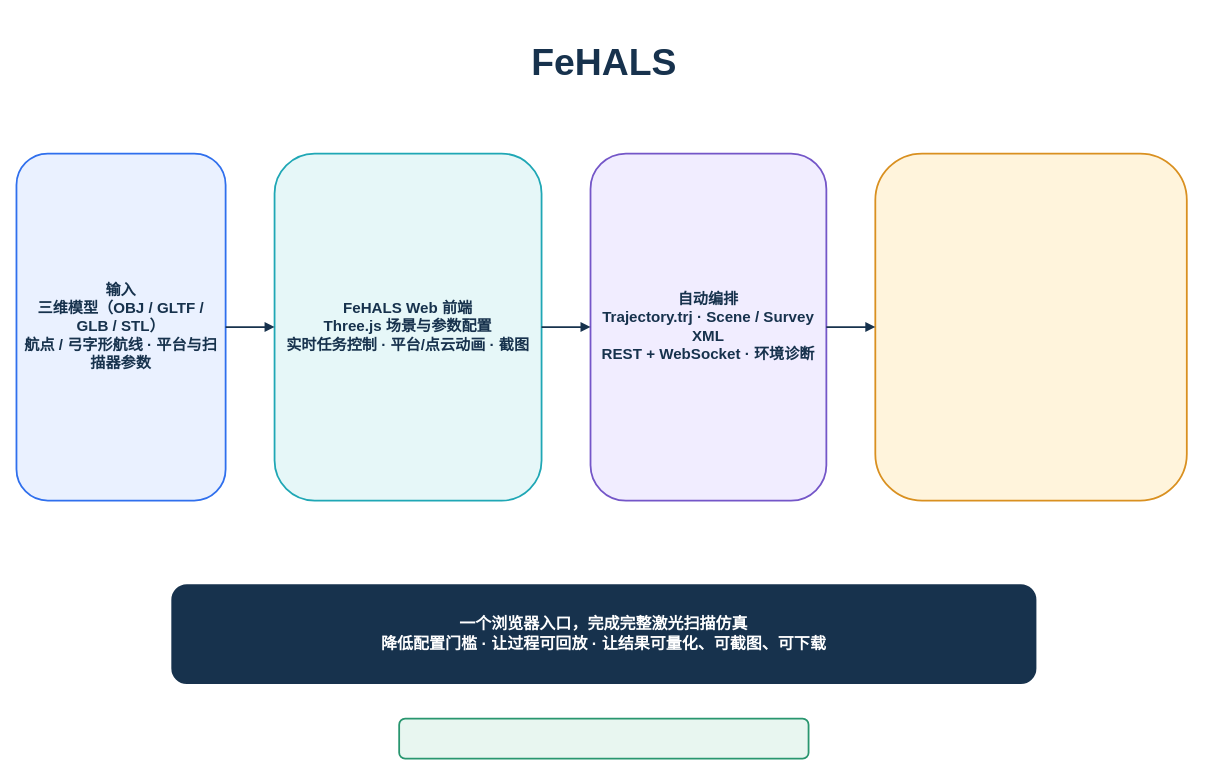
Image size: 1206x774. Some labels were removed from this diagram. Here are the shapes that lost their labels. From the top down, the centre of each, then its label:
At (1030,326): "HELIOS++ 与输出 光线追踪仿真 流式解析 · 统计/直方图 · 覆盖度热力图".
At (603,738): "统计、覆盖度与动画反馈驱动航路、航高及扫描器参数迭代".
